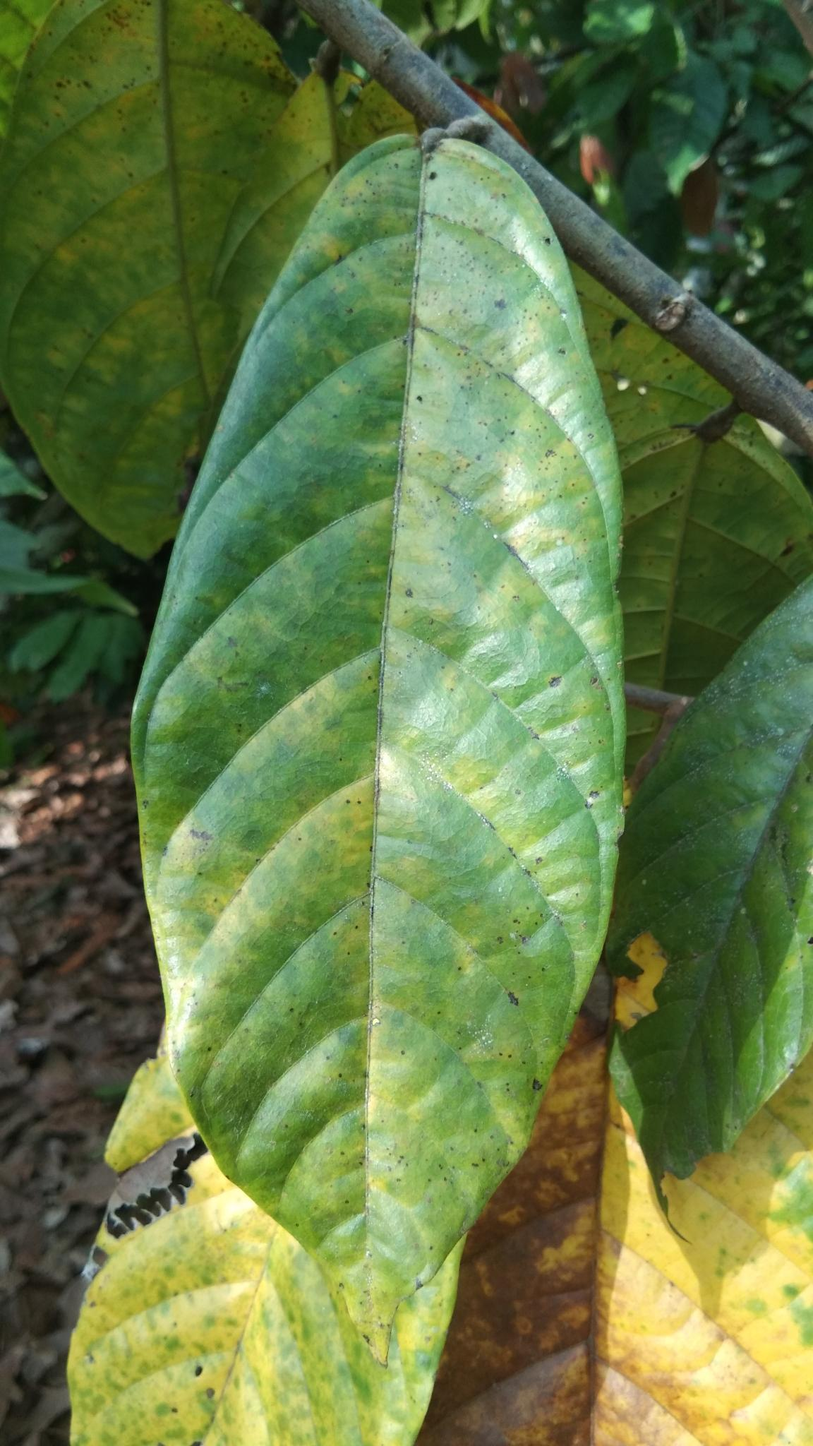Fosforo: (119, 137, 643, 1411), (0, 0, 331, 557), (418, 1009, 813, 1446), (68, 1151, 459, 1446)
